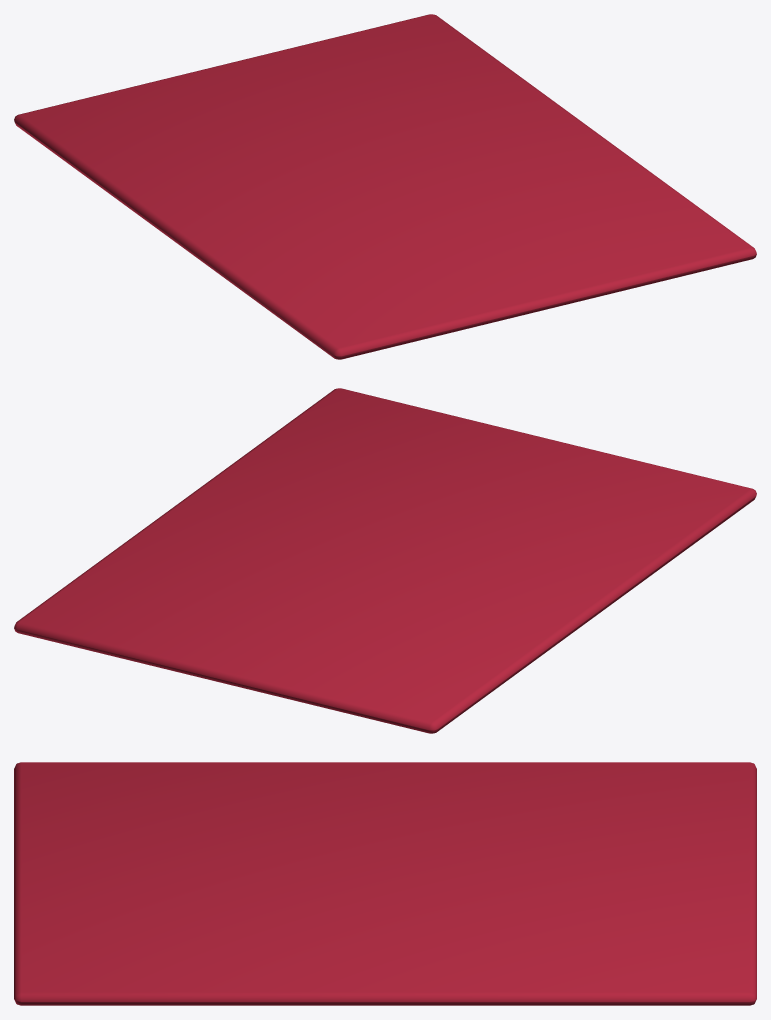
Rendered from GEO_SUV_Hood.glb.
3 renders of one model, top to bottom at view 1: azimuth 30°, elevation 25°; view 2: azimuth 150°, elevation 25°; view 3: azimuth 270°, elevation 25°, orthographic. The views are drawn at different scales.
Parts seen in each view (by area): view 1: GEO_SUV_Hood; view 2: GEO_SUV_Hood; view 3: GEO_SUV_Hood.
Part boxes in pixels (bbox=[...]): GEO_SUV_Hood: bbox=[14, 14, 756, 359]; GEO_SUV_Hood: bbox=[14, 388, 756, 733]; GEO_SUV_Hood: bbox=[14, 762, 756, 1005].
Size of the model in its own units: 1.52 by 0.04 by 2.02.
